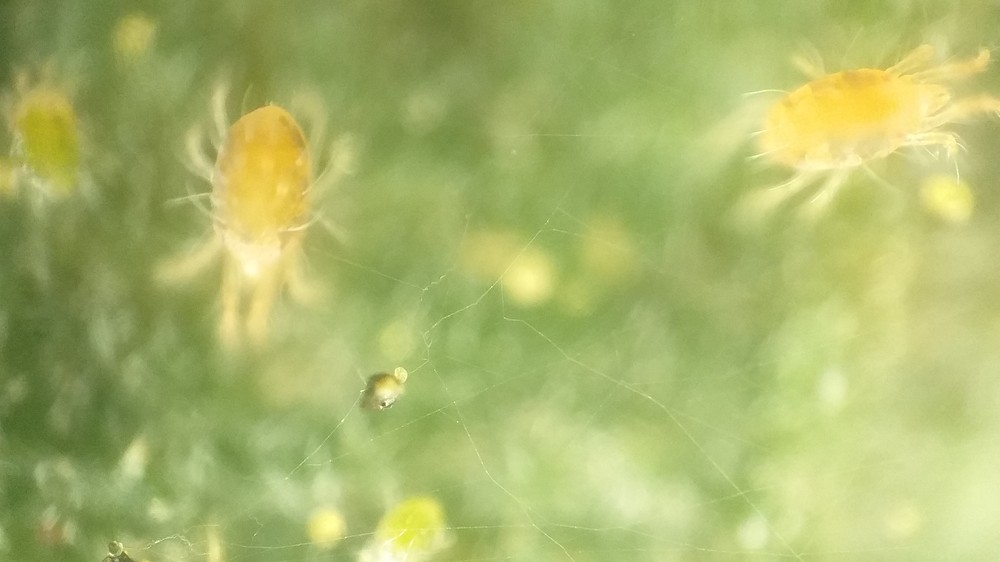Aracnido Rojo: (719, 29, 1000, 238), (148, 70, 350, 356), (1, 52, 118, 238)
